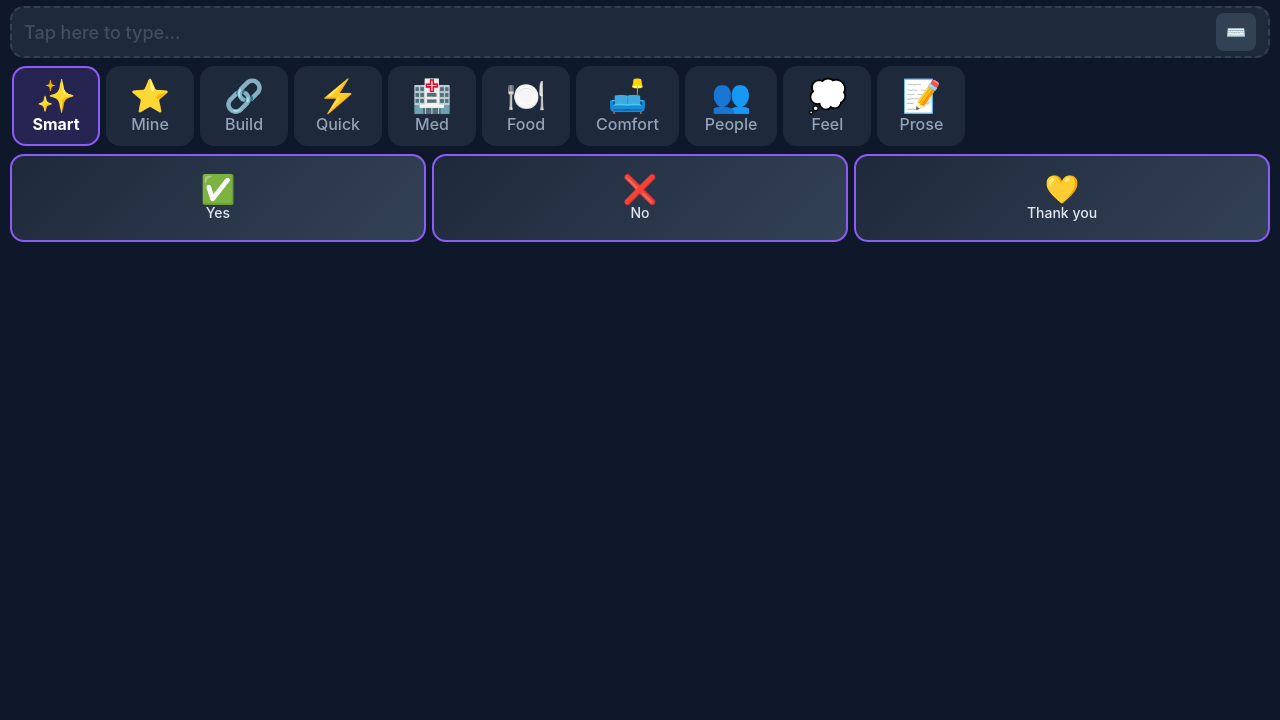
Scenario: TalkScreen integration › shows pain scale when pain button is tapped in Medical
This screenshot has width=1280, height=720.
// Switch to Medical tab
Click the text "Med" at (432, 124), box [415, 116, 449, 132]
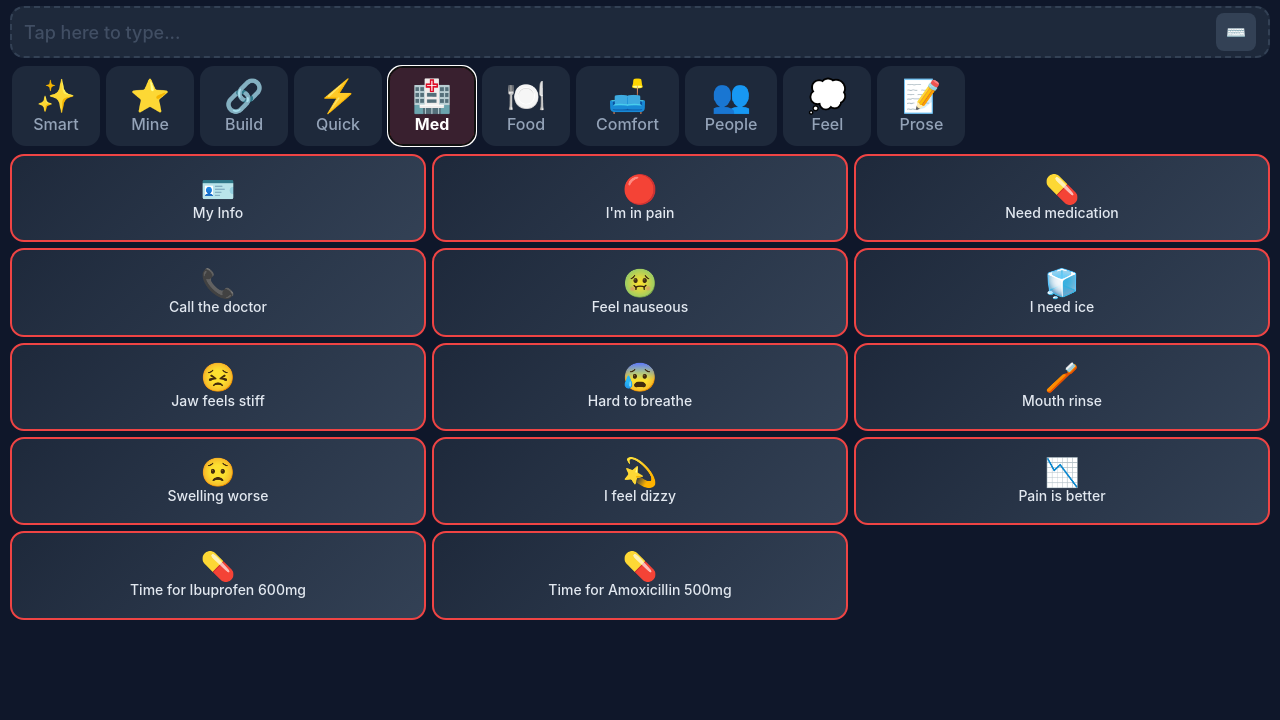
// Tap the pain button
Click the text "I'm in pain" at (640, 213), box [603, 205, 677, 222]
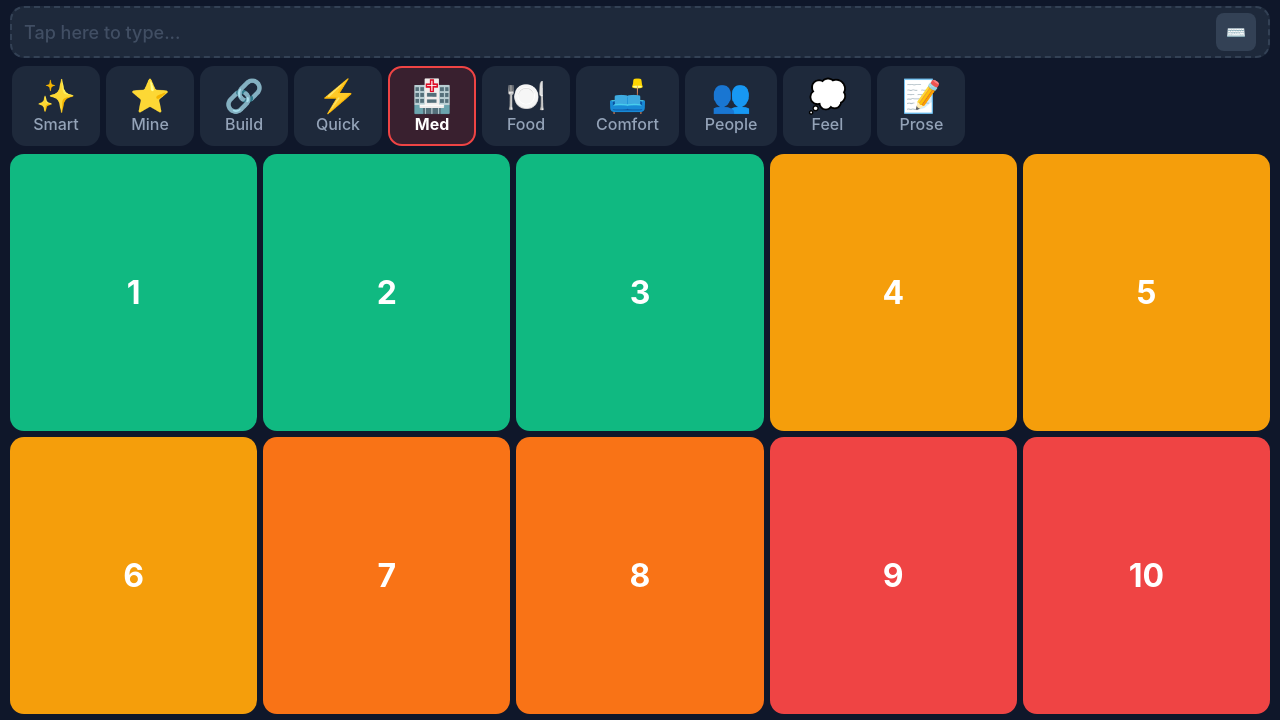
Expected: the button "1" is shown, [10, 154, 257, 431]
Expected: the button "10" is shown, [1023, 437, 1270, 714]
